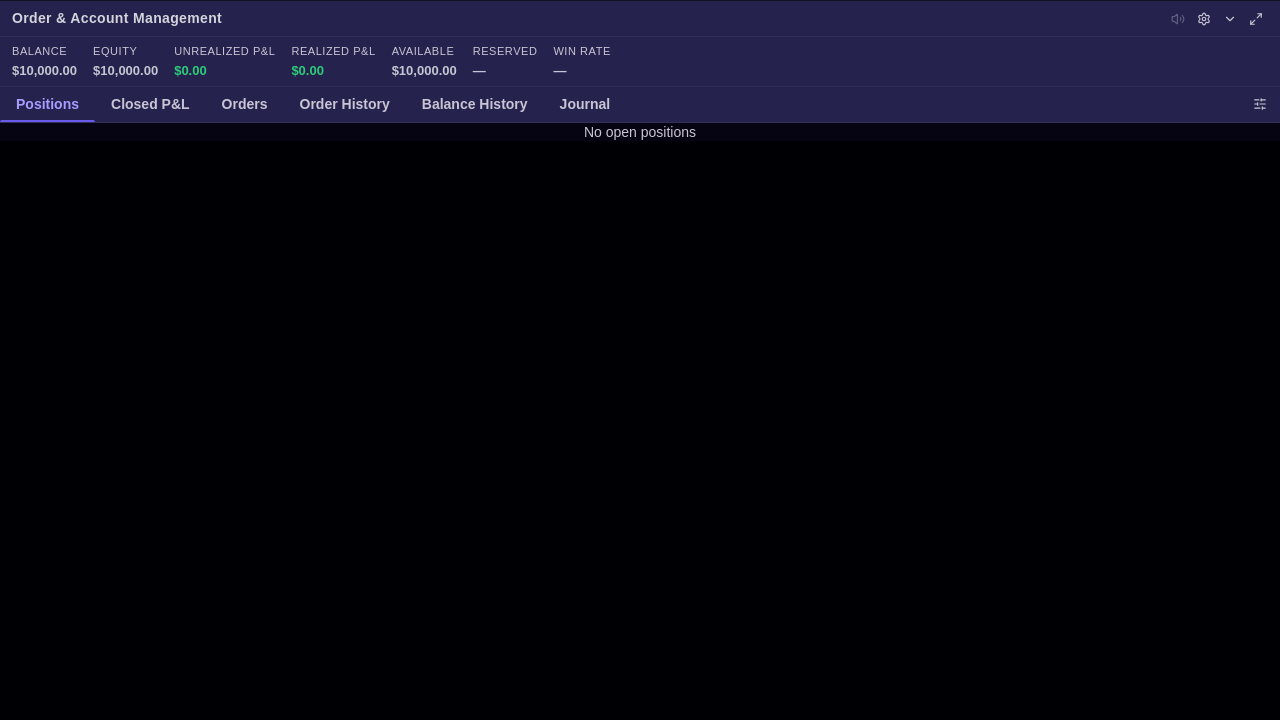
Test case: Section 8 — Account Settings modal › [8.6] should ask "Confirm reset?" without resetting when Reset account is clicked once
Click the button named "Account settings" at (1204, 18), box [1192,6,1216,30]
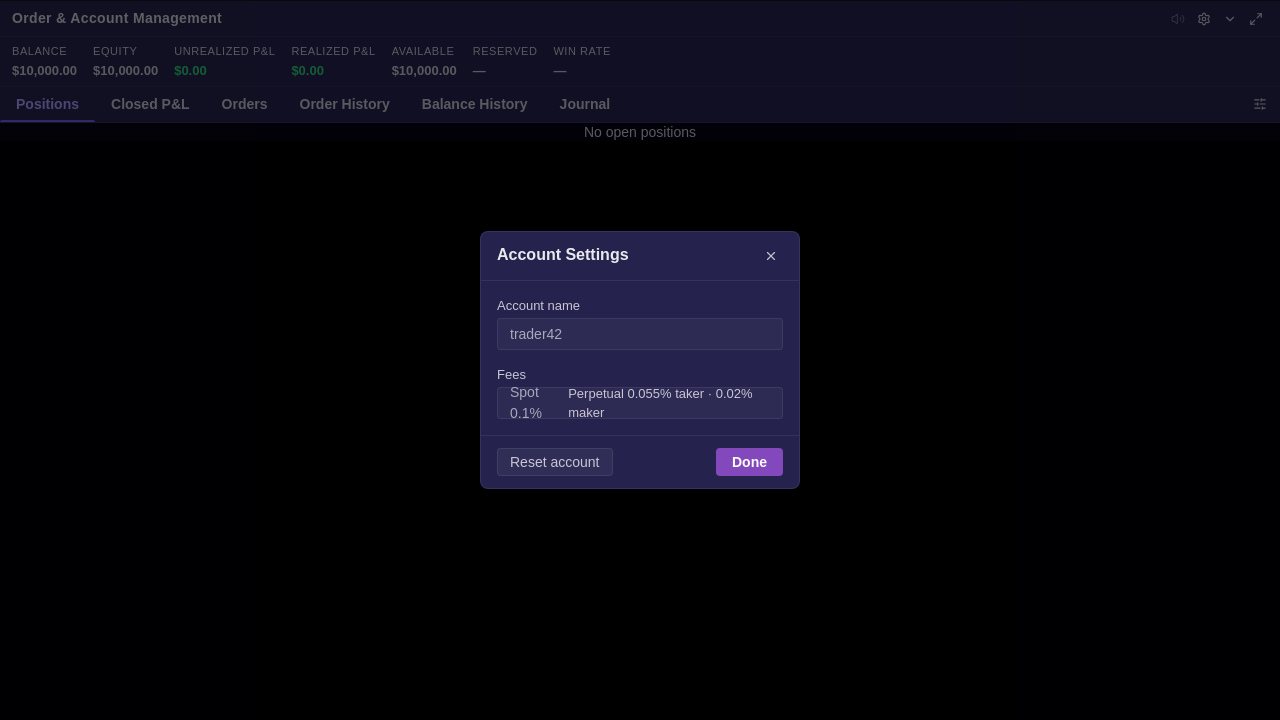
expect the button "Reset account" is shown: met
Click the button "Reset account" at (555, 462), box [497,448,612,476]
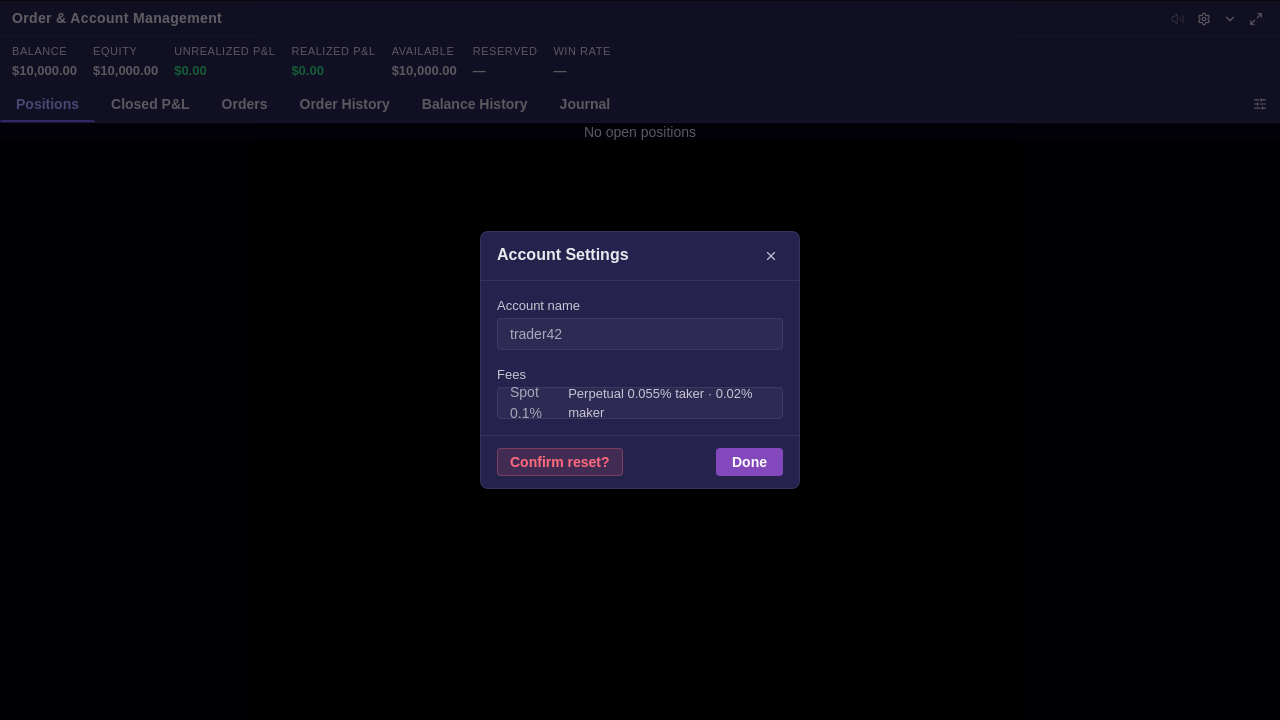
expect the button "Confirm reset?" is shown: met, box [497,448,623,476]
